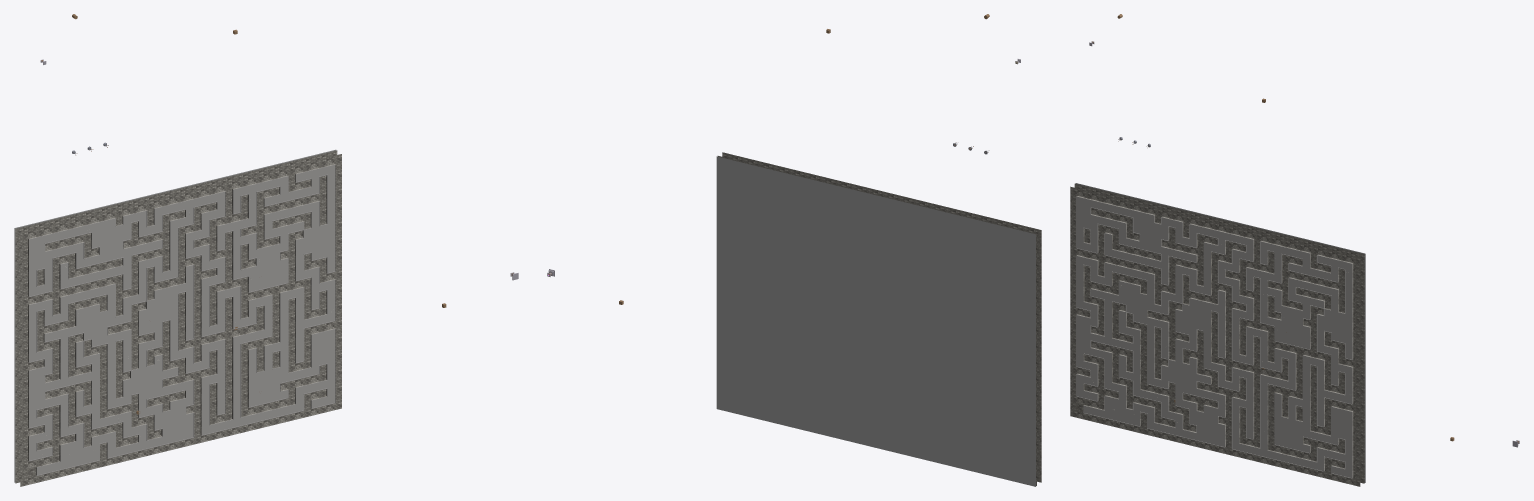
Rendered from dungeon.glb.
3 views of the same model, side by side, from view 1: azimuth 30°, elevation 25°; view 2: azimuth 150°, elevation 25°; view 3: azimuth 330°, elevation 25° (orthographic). The views are drawn at different scales.
Visible parts, largest first — view 1: Floor, Walls, Ceiling; view 2: Ceiling, Walls; view 3: Floor, Walls, Ceiling.
Boxes of the visible parts, bbox=[...] form: Floor: bbox=[29, 164, 335, 475]; Walls: bbox=[15, 150, 341, 486]; Ceiling: bbox=[14, 149, 336, 482]; Ceiling: bbox=[716, 156, 1035, 486]; Walls: bbox=[717, 152, 1041, 485]; Floor: bbox=[1076, 196, 1352, 478]; Walls: bbox=[1070, 183, 1364, 486]; Ceiling: bbox=[1075, 183, 1365, 482].
Bounding box in the file's own units: 127 × 112 × 3.1.
15 materials, 1 textured.
